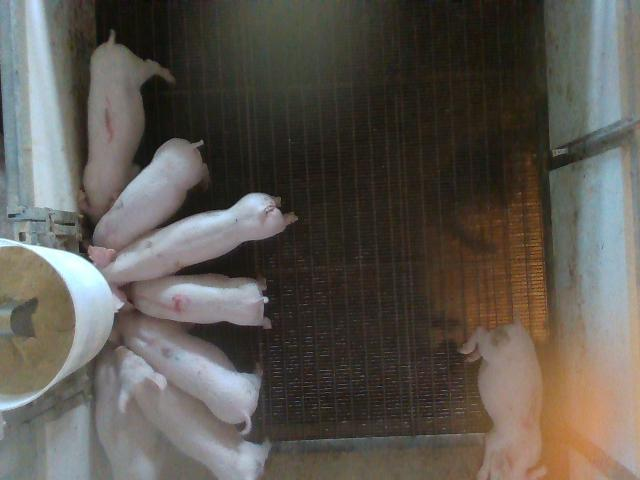pig-1: (81, 31, 174, 223)
pig-3: (460, 321, 545, 478)
pig-4: (126, 274, 269, 326)
